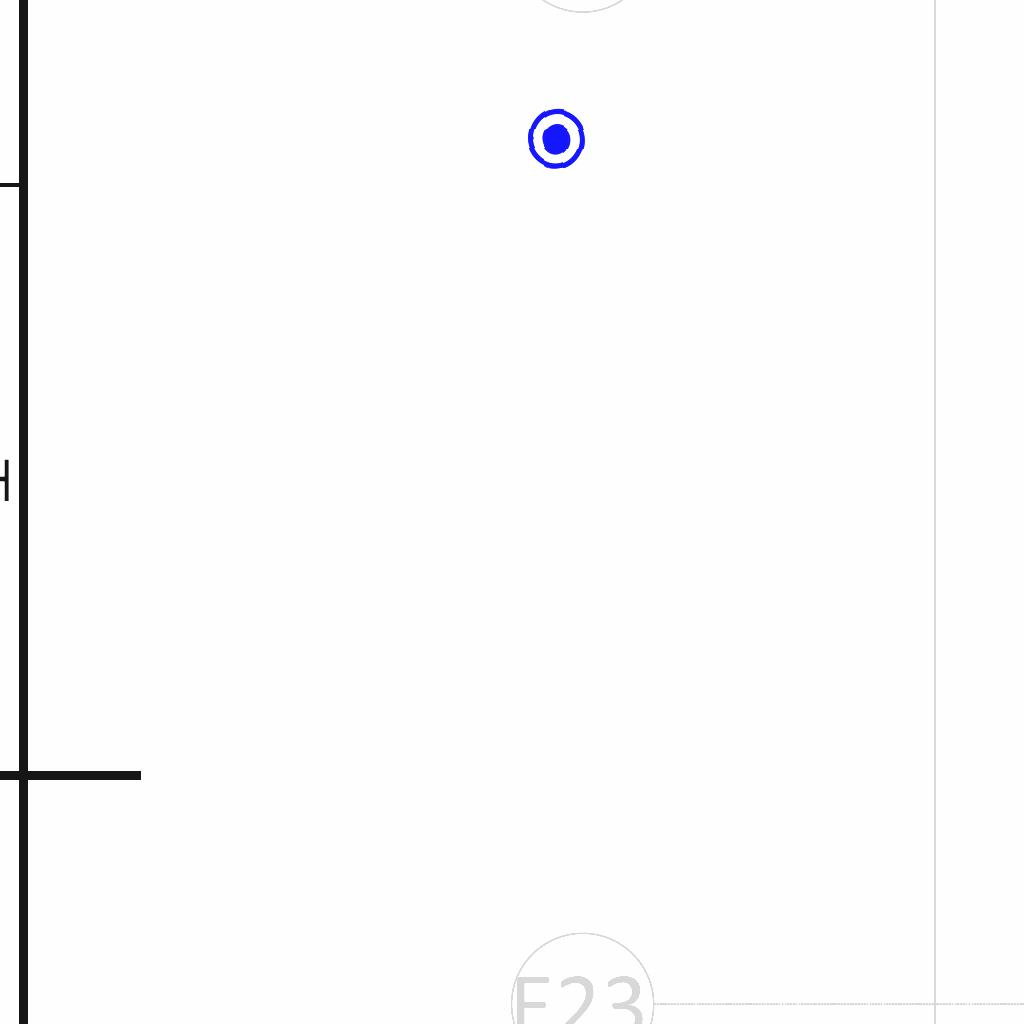Taster: (519, 104, 589, 174)
